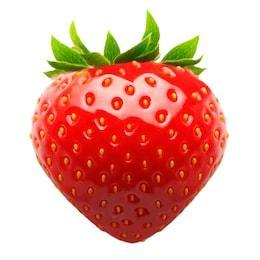Fresa: (29, 54, 236, 246)
